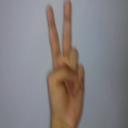hand: (45, 0, 85, 127)
